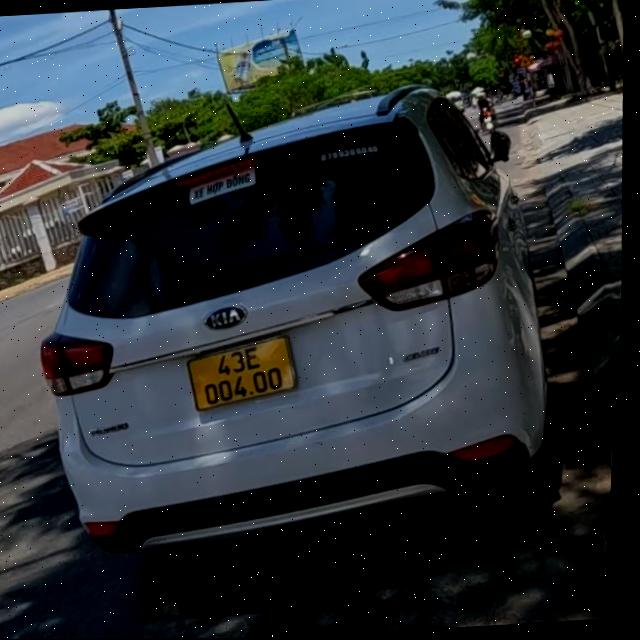car: (14, 70, 586, 575)
plate: (182, 337, 312, 408)
